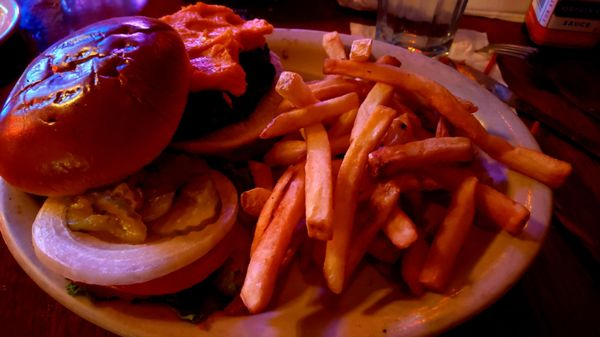pizza: (371, 0, 469, 59)
